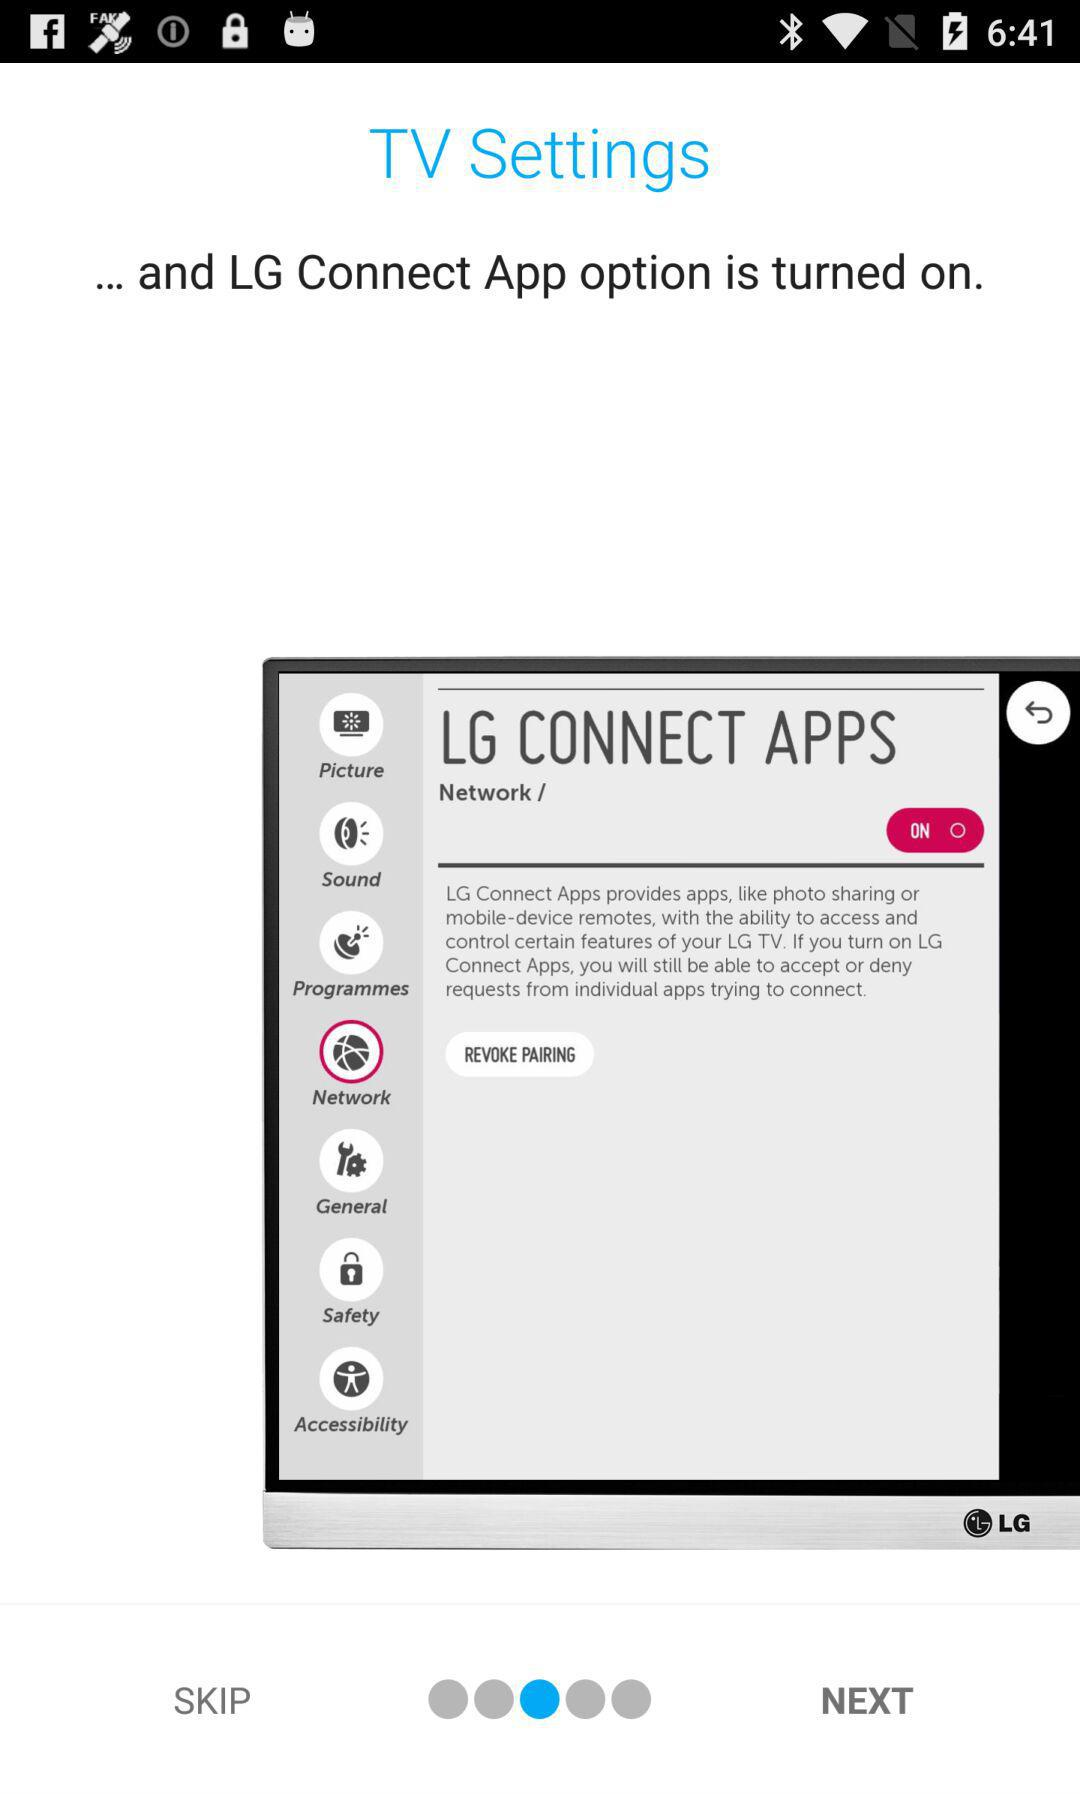Image: (263, 656, 1077, 1551)
PageIndicator: (428, 1677, 653, 1721)
Text: (97, 252, 983, 302), (369, 128, 710, 195), (821, 1686, 915, 1716), (176, 1685, 252, 1717)
UpperTaskBar: (1, 1, 1080, 64)
